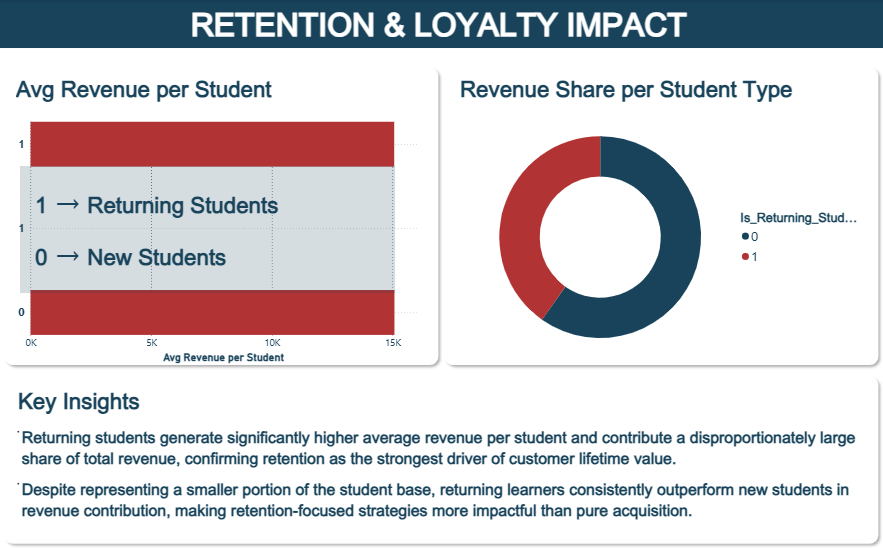

This screenshot's page, from the dashboard's own definition file:
{"tool":"powerbi","page":{"name":"Retention & loyalty Impact","canvas":[1480,920],"ordinal":3},"visuals":[{"type":"shape","box":[736,106,744,516],"z":0},{"type":"shape","box":[0,106,744,516],"z":1000},{"type":"shape","box":[0,622,1480,298],"z":2000},{"type":"textbox","box":[15,710,1445,192.5],"z":3000},{"type":"shape","box":[0,0,1480,82],"z":4000},{"type":"donutChart","fields":{"Category":["education_clv_dataset_20000_rows.Is_Returning_Student"],"Y":["education_clv_dataset_20000_rows.Total Revenue"]},"box":[766,182,690,432],"z":5000},{"type":"clusteredBarChart","fields":{"Category":["education_clv_dataset_20000_rows.Is_Returning_Student"],"Y":["education_clv_dataset_20000_rows.Avg Revenue per Student"]},"box":[26.8,187.3,690.8,426.5],"z":6000},{"type":"textbox","box":[24,118,656,70],"z":7000},{"type":"textbox","box":[12,0,1448,82],"z":8000},{"type":"textbox","box":[766,118,656,70],"z":9000},{"type":"shape","box":[35,280,627.5,212.5],"z":10000},{"type":"textbox","box":[55,295,600,192.5],"z":11000},{"type":"textbox","box":[27.5,640,657.5,70],"z":11001}]}

Visuals, with their boxes in screenshot pixels (x1, y1, x2, y2), scaled from the page's 1480x920 canvas onto the 883x548 screenshot:
shape: x1=439, y1=63, x2=882, y2=370
shape: x1=0, y1=63, x2=444, y2=370
shape: x1=0, y1=370, x2=882, y2=547
textbox: x1=9, y1=423, x2=871, y2=538
shape: x1=0, y1=0, x2=882, y2=49
donutChart - education_clv_dataset_20000_rows.Is_Returning_Student x education_clv_dataset_20000_rows.Total Revenue: x1=457, y1=108, x2=869, y2=366
clusteredBarChart - education_clv_dataset_20000_rows.Is_Returning_Student x education_clv_dataset_20000_rows.Avg Revenue per Student: x1=16, y1=112, x2=428, y2=366
textbox: x1=14, y1=70, x2=406, y2=112
textbox: x1=7, y1=0, x2=871, y2=49
textbox: x1=457, y1=70, x2=848, y2=112
shape: x1=21, y1=167, x2=395, y2=293
textbox: x1=33, y1=176, x2=391, y2=290
textbox: x1=16, y1=381, x2=409, y2=423
